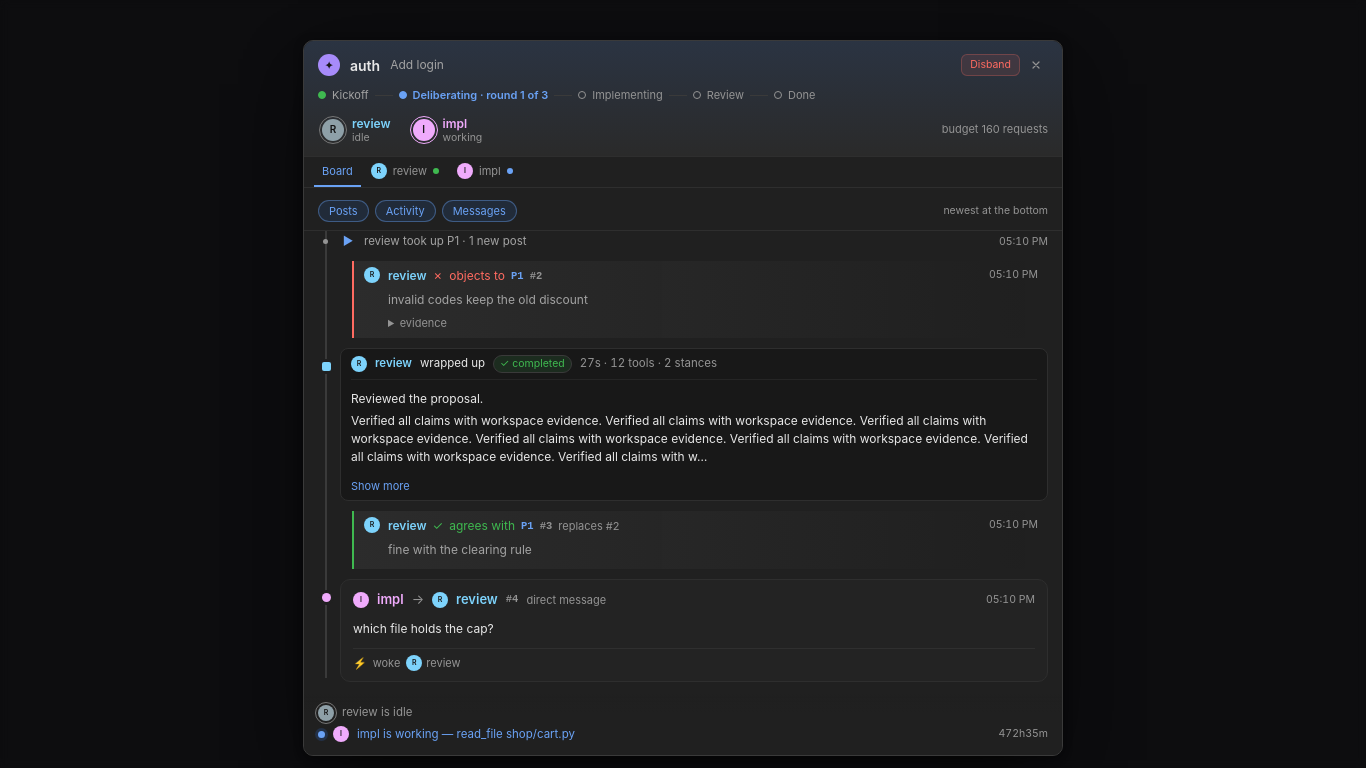
Test case: TeamWindow board › shows a long board report as an excerpt with Show more and Show less
(page scrolled)
Expected: the text "Final board detail" is not shown
Click the button with aria-label "Show more of review's report".
click(380, 486)  # box x1=351 y1=478 x2=410 y2=494
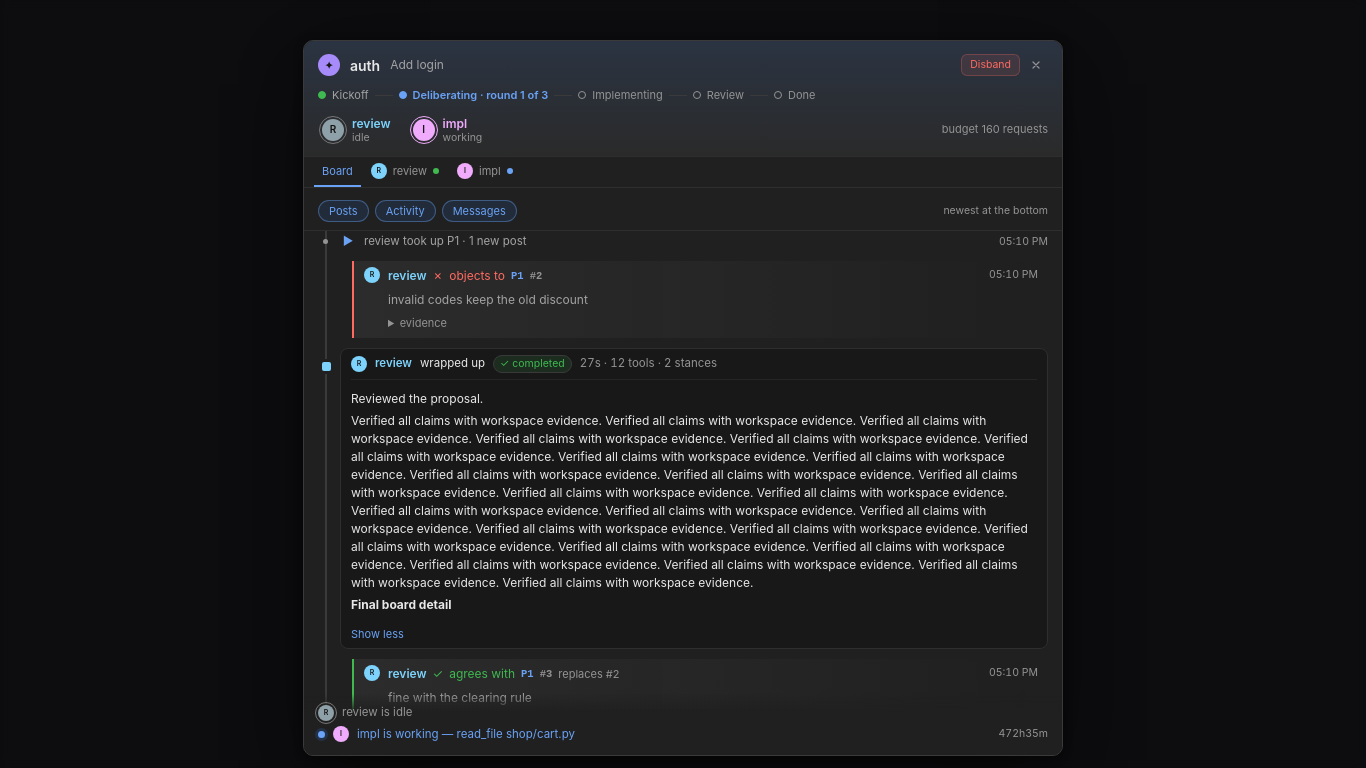
Click the button with aria-label "Show less of review's report".
click(377, 634)  # box x1=351 y1=626 x2=404 y2=642
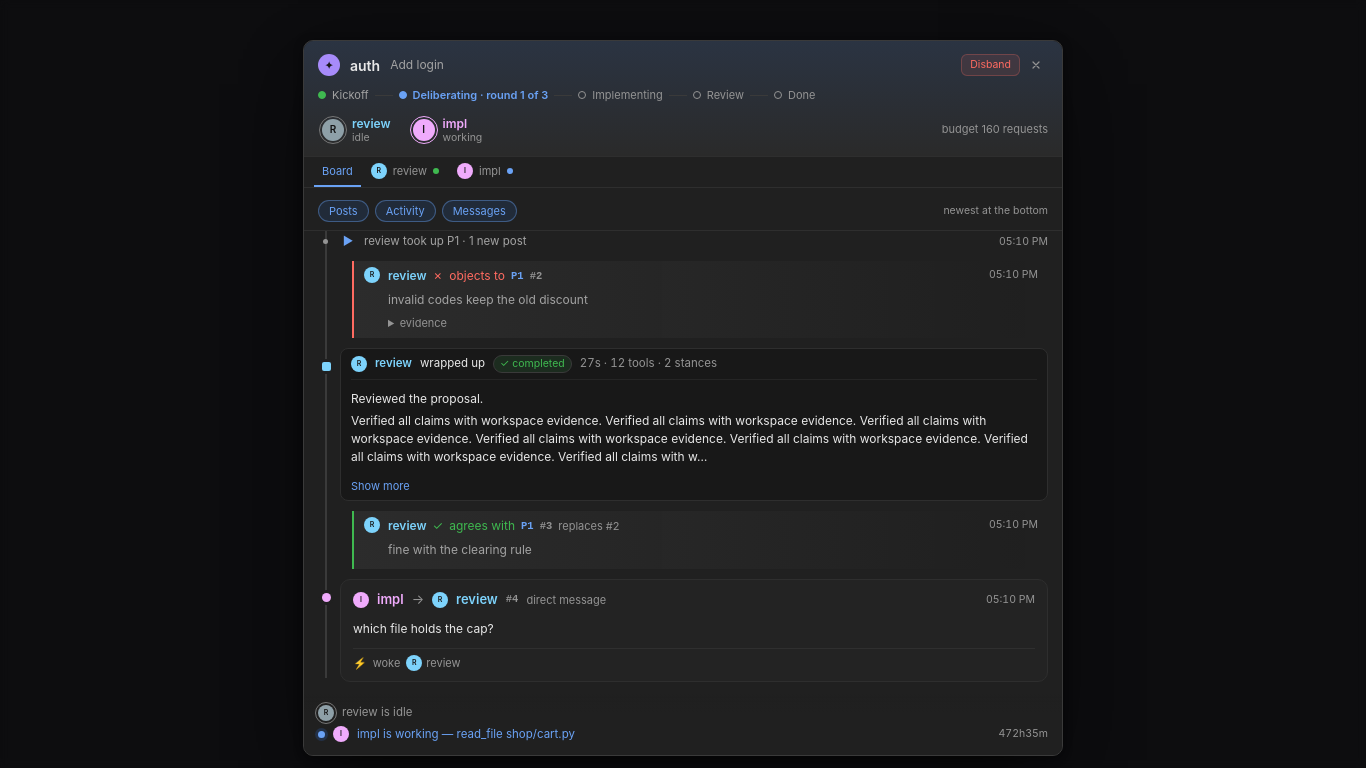
Expected: the text "Final board detail" is gone
